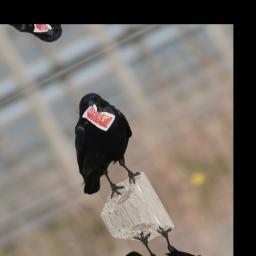Crow: (40, 83, 160, 211)
